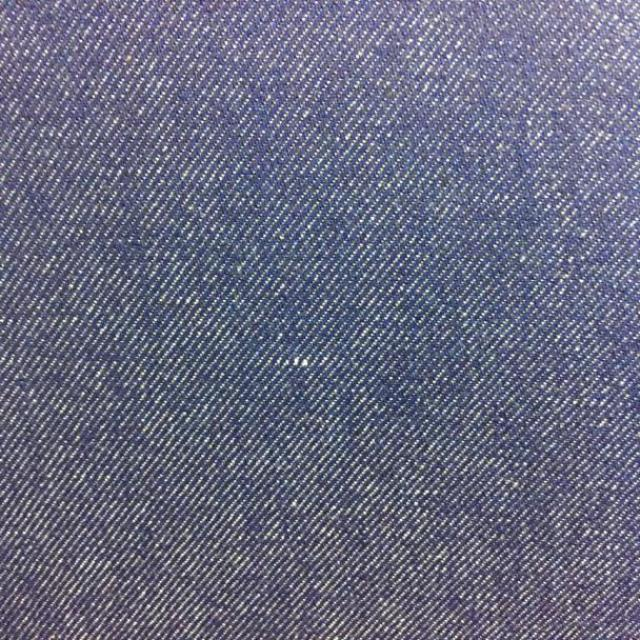Knot: (276, 357, 312, 369)
